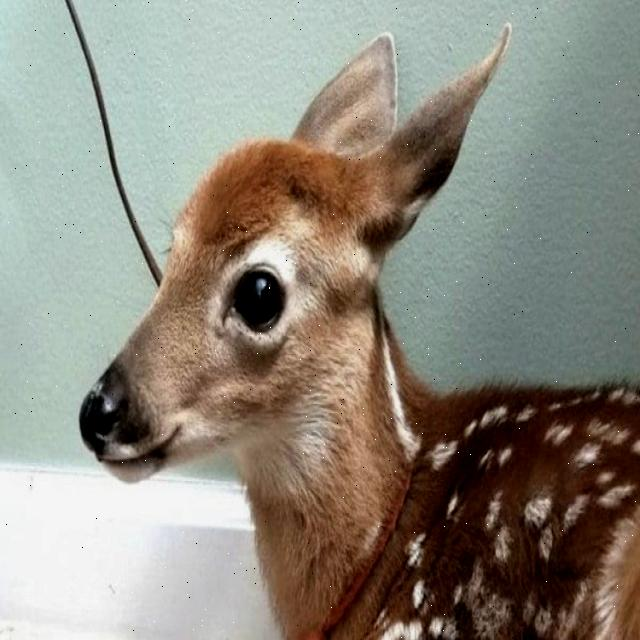deer: (55, 26, 518, 512)
